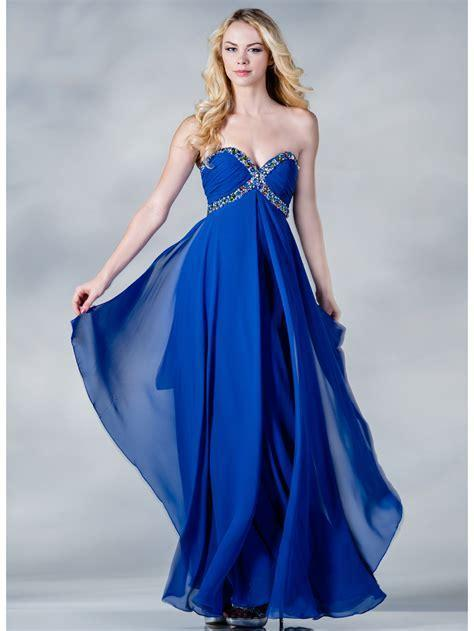dress: (71, 148, 405, 620)
